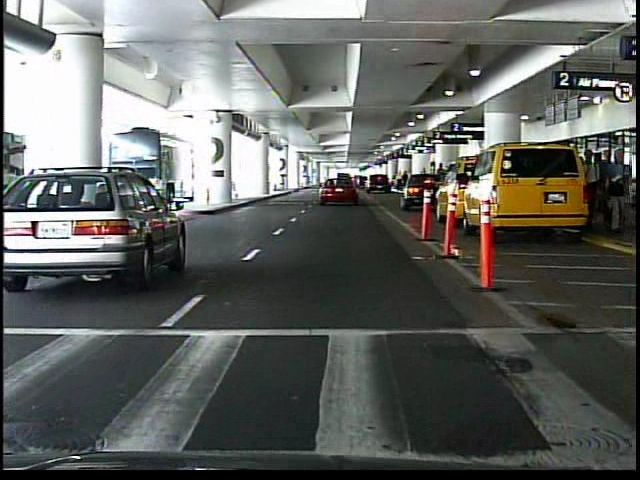person: (435, 160, 449, 203)
